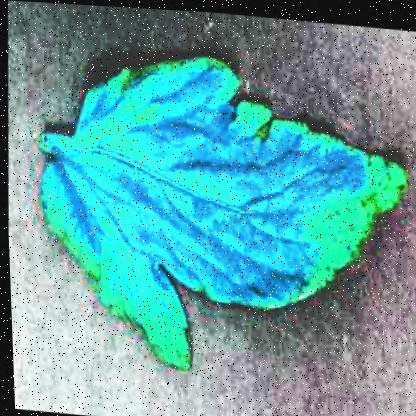BACTERIAL SPOT: (22, 35, 415, 395)
